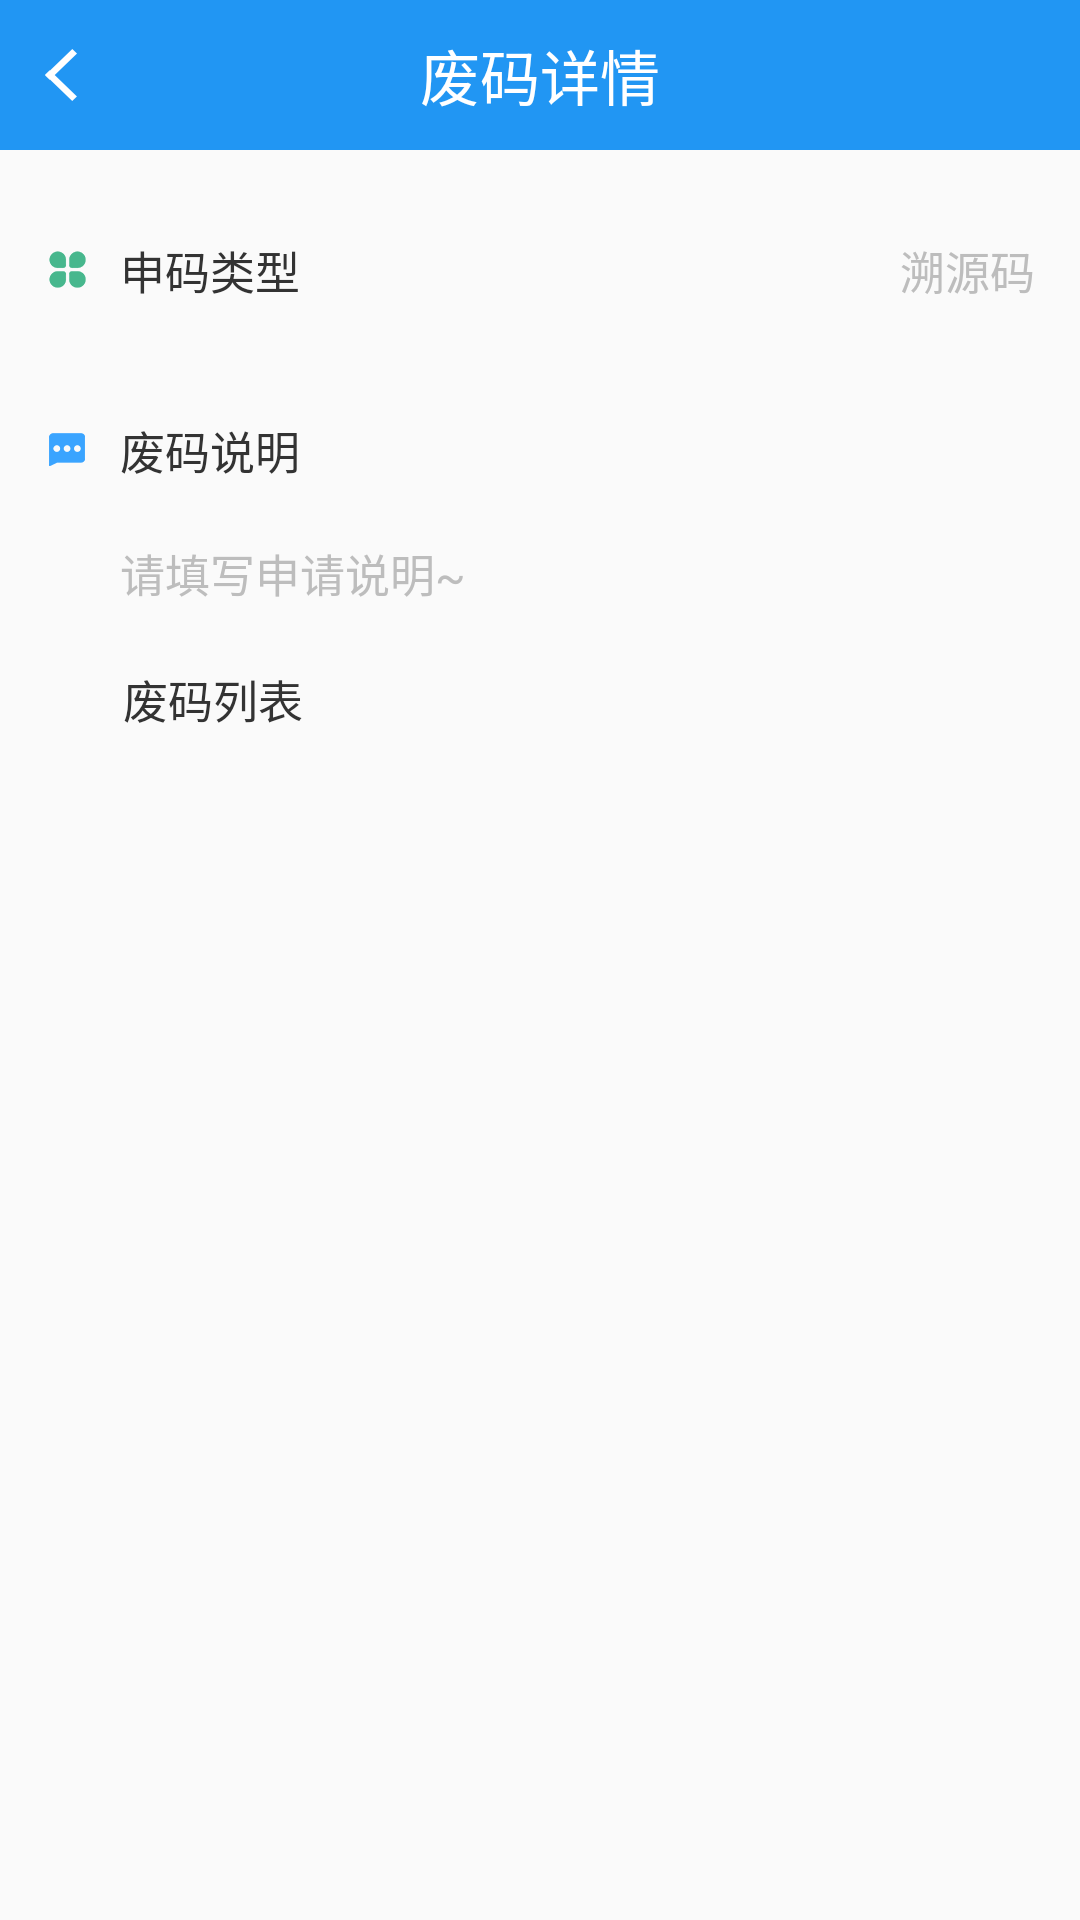

Icons on this 1080px×1920px Android screen, each with the point to tap as (x=x, y=y):
return: (x=61, y=75)
